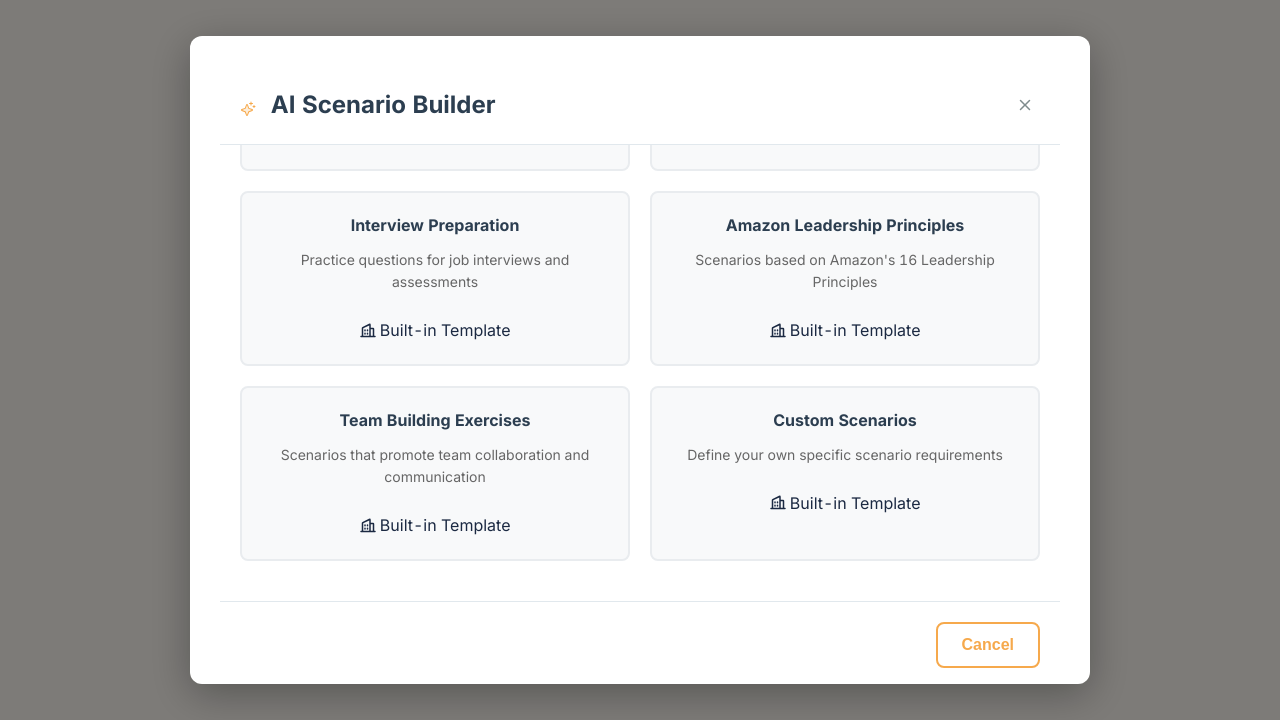
it: 4. the padlocks in the real builder › the padlock announces itself as a two-state control naming its field
The width and height of the screenshot is (1280, 720).
(page scrolled)
Click the heading "Custom Scenarios" at [845, 420], box [773,410,917,430]
(page scrolled)
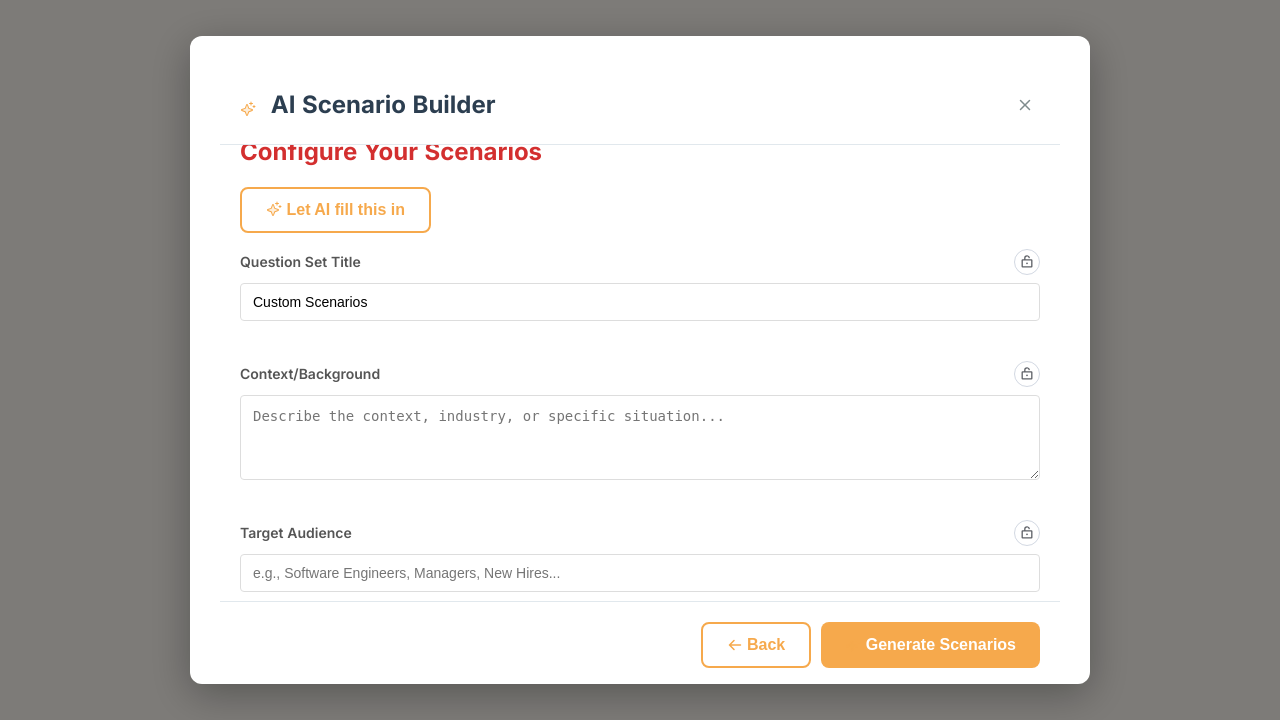
Result: the heading "Configure Your Scenarios" is shown at [240,145,542,166]
Click the button with test id "field-lock-context" at [1027, 374], box [1014,361,1040,387]
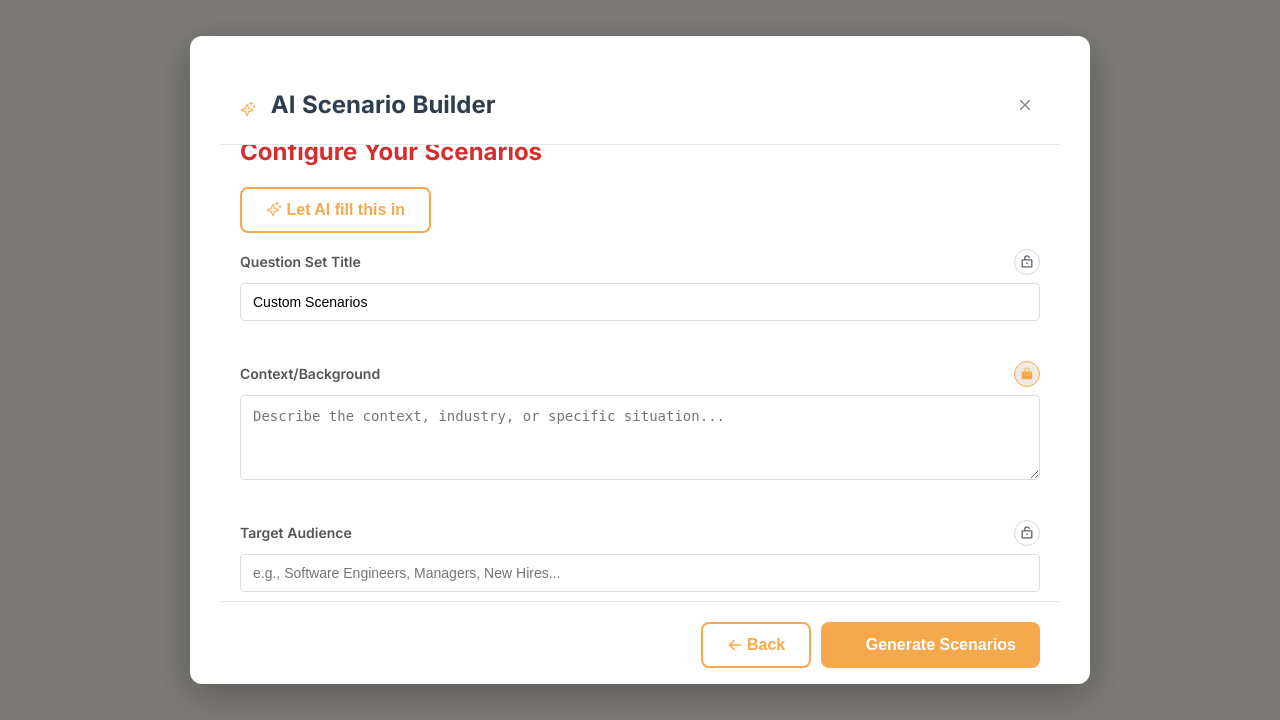
Result: the button with test id "field-lock-context" is pressed at [1014,361,1040,387]
